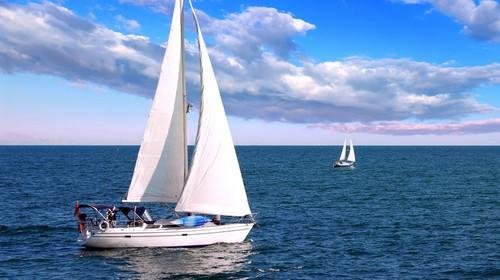fanchuan: (74, 1, 253, 252), (327, 133, 359, 170)
